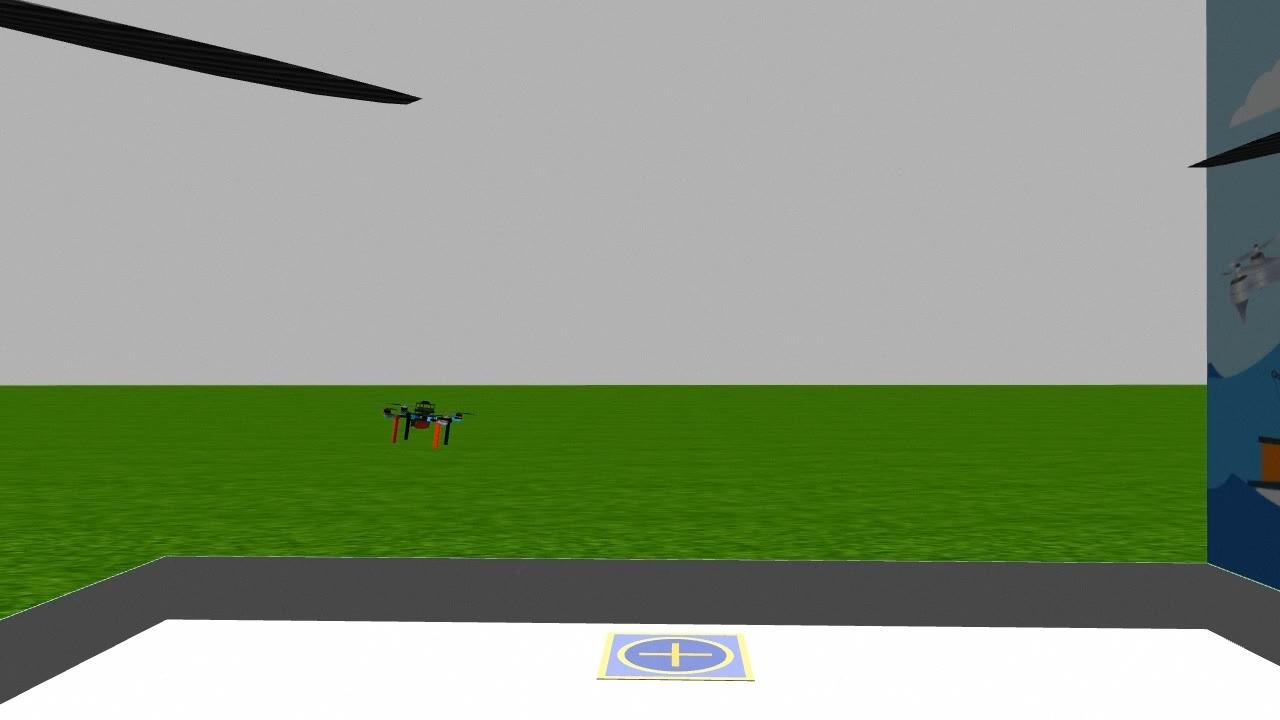UAV: (374, 378, 470, 459)
